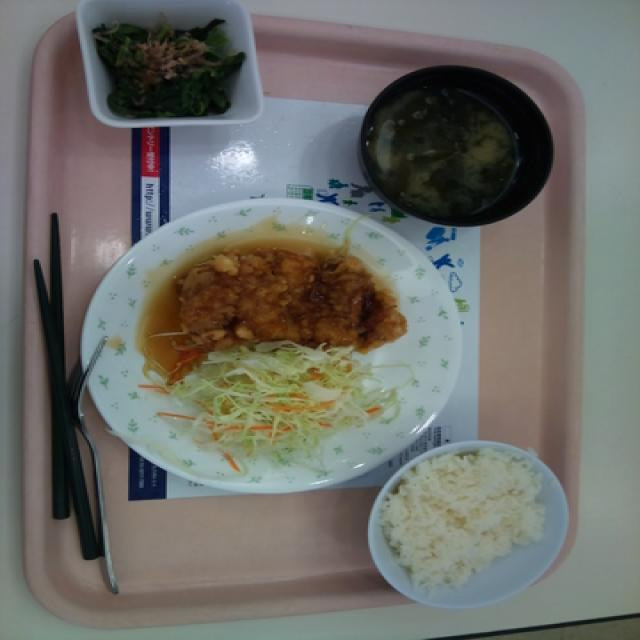Rice: (391, 451, 545, 593)
